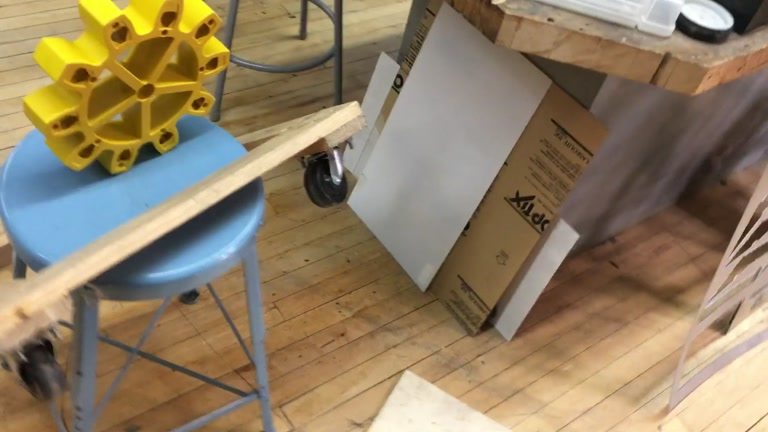gear: (25, 1, 231, 180)
